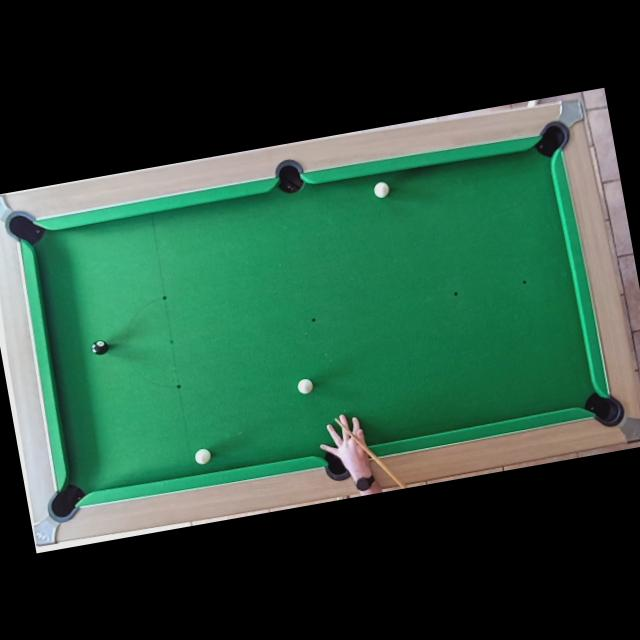Ball: (193, 446, 212, 464), (296, 377, 314, 394), (90, 338, 108, 355), (373, 182, 390, 199)
